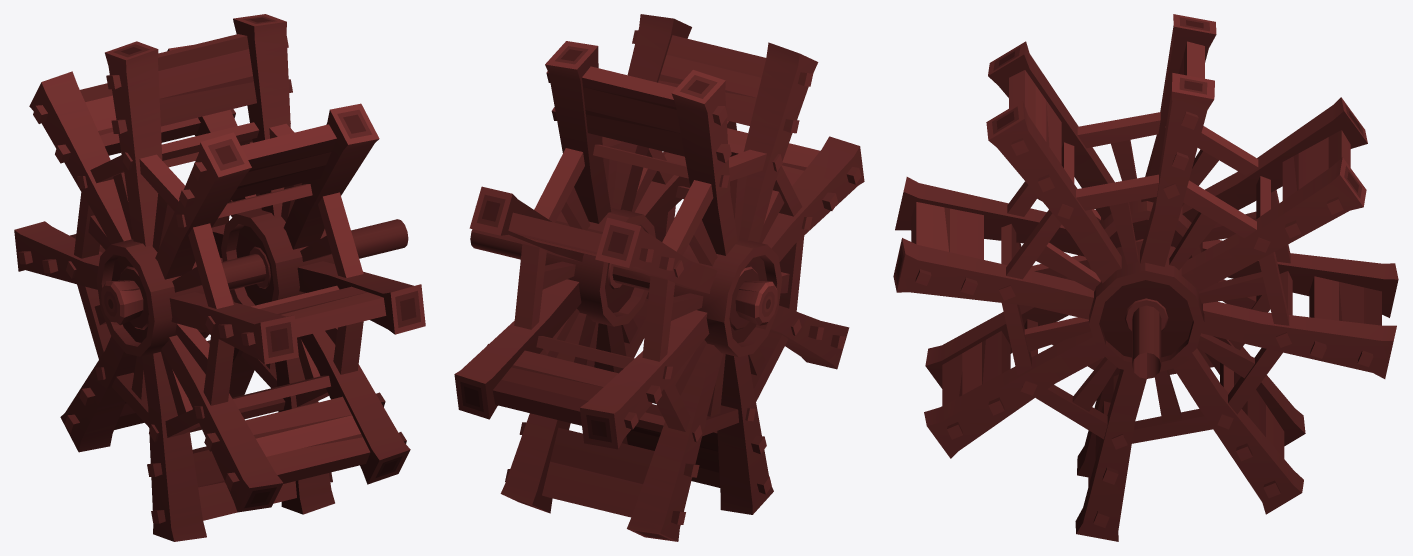
The model's file is wheel.glb.
The picture shows the model from 3 angles, left to right: view 1: azimuth 30°, elevation 25°; view 2: azimuth 150°, elevation 25°; view 3: azimuth 270°, elevation 25°; orthographic projection.
Parts seen in each view (by area): view 1: wheel; view 2: wheel; view 3: wheel.
Boxes of the visible parts, x1=… form: wheel: x1=14, y1=14, x2=425, y2=541; wheel: x1=454, y1=14, x2=864, y2=541; wheel: x1=893, y1=14, x2=1398, y2=541.
Bounding box in the file's own units: 2.75 × 4.16 × 4.18.
1 material, 1 textured.
